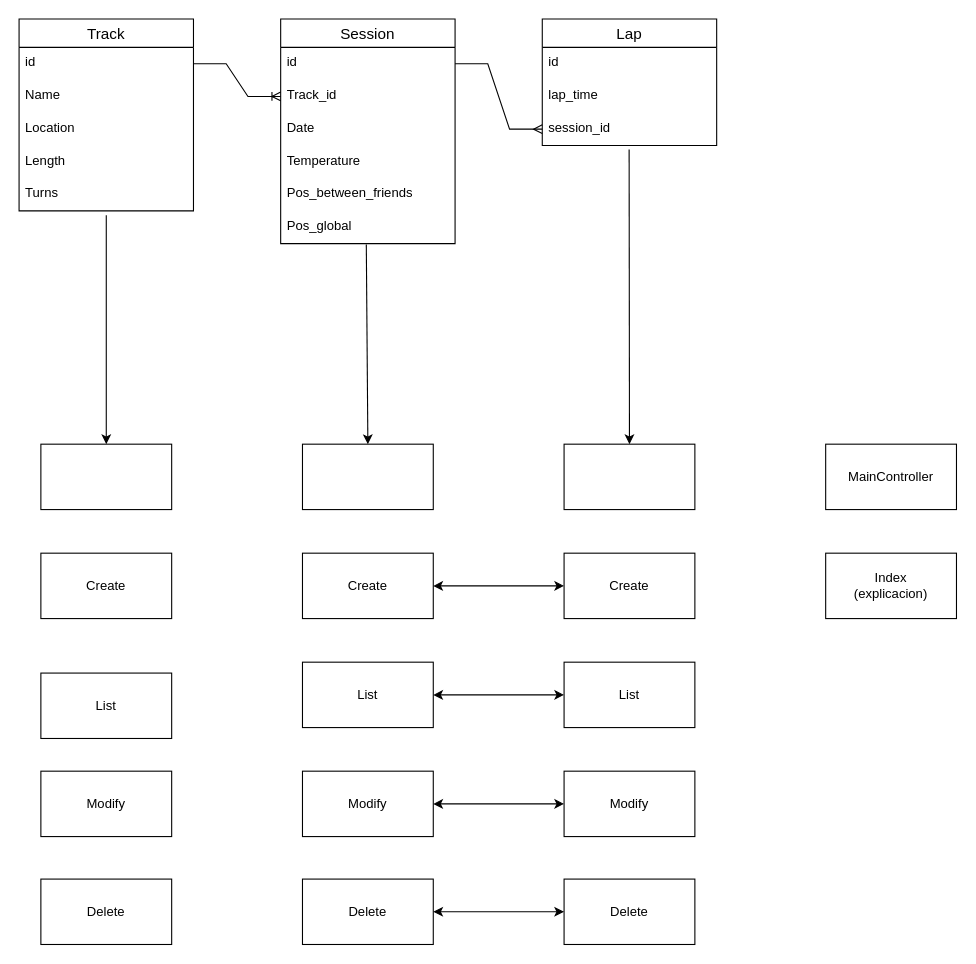
The diagram is 976 pixels wide and 964 high, and some of its shapes have lost their labels. Here are the shapes that lost their labels. From the top down, the centre of each, then its label:
At pixel 106 476: "TrackController".
At pixel 367 476: "SessionController".
At pixel 629 476: "LapController".
